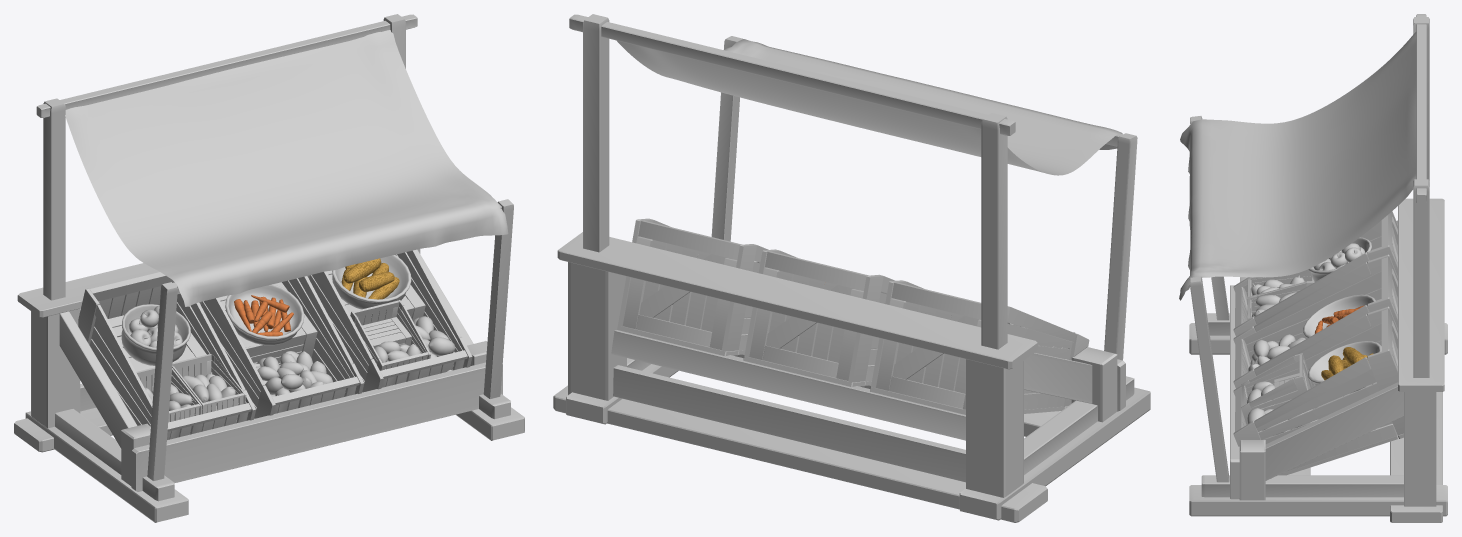
Rendered from Market_Stall_2A1.fbx.
The picture shows the model from 3 angles, left to right: view 1: azimuth 30°, elevation 25°; view 2: azimuth 150°, elevation 25°; view 3: azimuth 270°, elevation 25°; orthographic projection. The views are drawn at different scales.
Parts seen in each view (by area): view 1: Cube.1628, Cube.1379, Cube.1381, Cube.1561, Cylinder.063, Cylinder.062, Cube.1601, Cylinder.080, Cube.1602, Lemon_1A1.004, Lemon_1A1.007, Cube.1603 (+3 smaller); view 2: Cube.1379, Cube.1381, Cube.1561, Cube.1628; view 3: Cube.1628, Cube.1379, Cube.1381, Cube.1561, Cube.1601, Cylinder.062, Cylinder.063, Cylinder.080, Lemon_1A1.004, Cube.1603, Cube.1602, Pear_1A1.003 (+3 smaller).
Boxes of the visible parts, x1,y1,x2,y2 form: Cube.1628: (65, 30, 508, 306); Cube.1379: (14, 249, 524, 522); Cube.1381: (78, 250, 472, 439); Cube.1561: (36, 14, 513, 480); Cylinder.063: (225, 284, 304, 345); Cylinder.062: (332, 255, 411, 309); Cube.1601: (350, 300, 430, 370); Cylinder.080: (121, 304, 190, 365); Cube.1602: (172, 353, 246, 422); Lemon_1A1.004: (253, 356, 305, 396); Lemon_1A1.007: (279, 351, 332, 388); Cube.1603: (136, 367, 202, 433); Cube.1379: (553, 232, 1150, 522); Cube.1381: (617, 218, 1089, 414); Cube.1561: (569, 14, 1137, 360); Cube.1628: (617, 39, 1122, 175); Cube.1628: (1179, 32, 1416, 300); Cube.1379: (1189, 198, 1447, 522); Cube.1381: (1233, 211, 1403, 475); Cube.1561: (1189, 14, 1429, 482); Cube.1601: (1241, 353, 1314, 424); Cylinder.062: (1308, 341, 1381, 393); Cylinder.063: (1303, 294, 1375, 337); Cylinder.080: (1308, 237, 1371, 281); Lemon_1A1.004: (1250, 334, 1305, 364); Cube.1603: (1247, 269, 1314, 305); Cube.1602: (1247, 282, 1314, 325); Pear_1A1.003: (1251, 275, 1304, 295).
Bounding box in the file's own units: 222 × 178 × 132.
